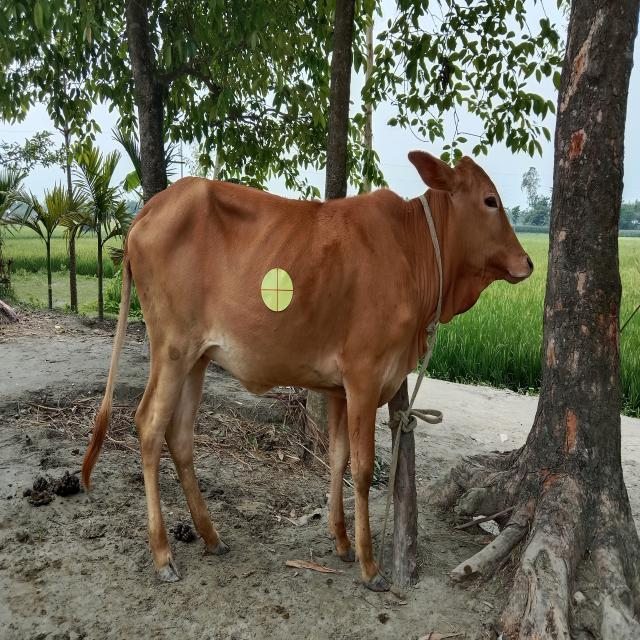badan_sapi: (128, 197, 418, 387)
sapi: (76, 138, 554, 594)
